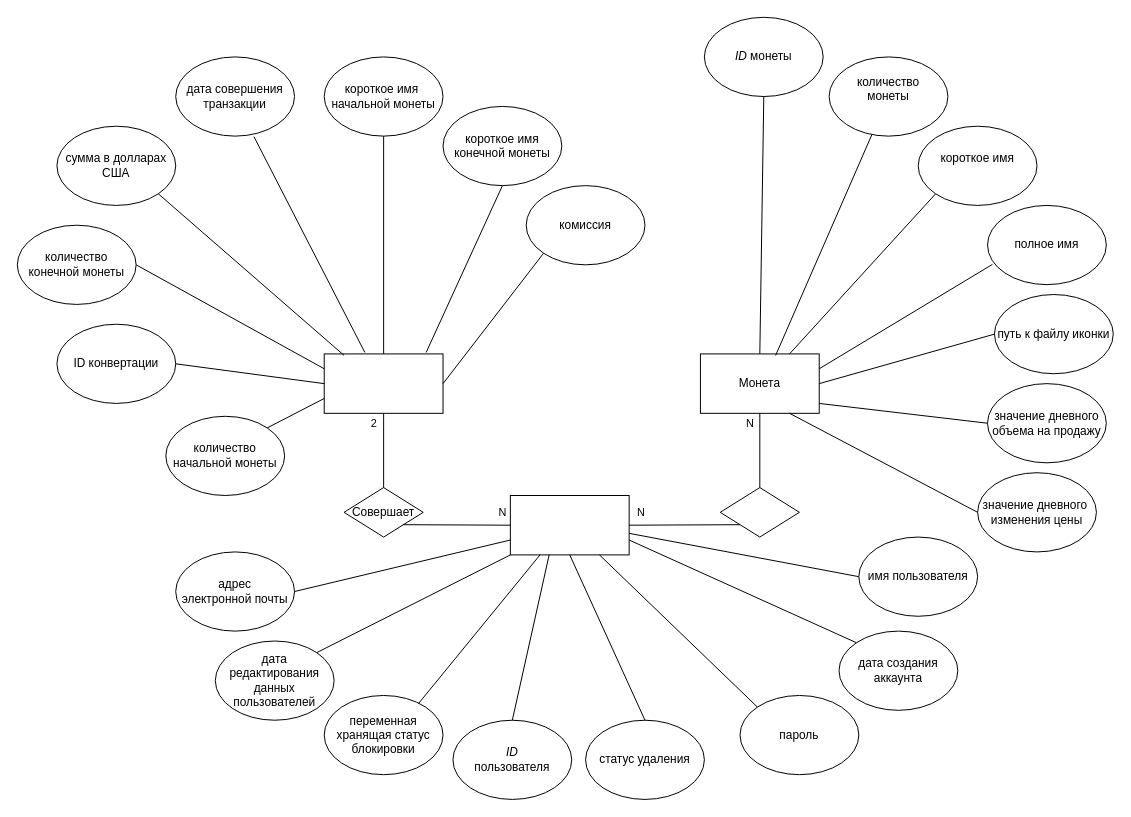
Image size: 1131x817. Some labels were removed from this diagram. Each missing label, with the centre of its shape:
"Конвертация" goes at point 383,383.
"Пользователь" goes at point 569,525.
"Хранит" goes at point 759,512.
